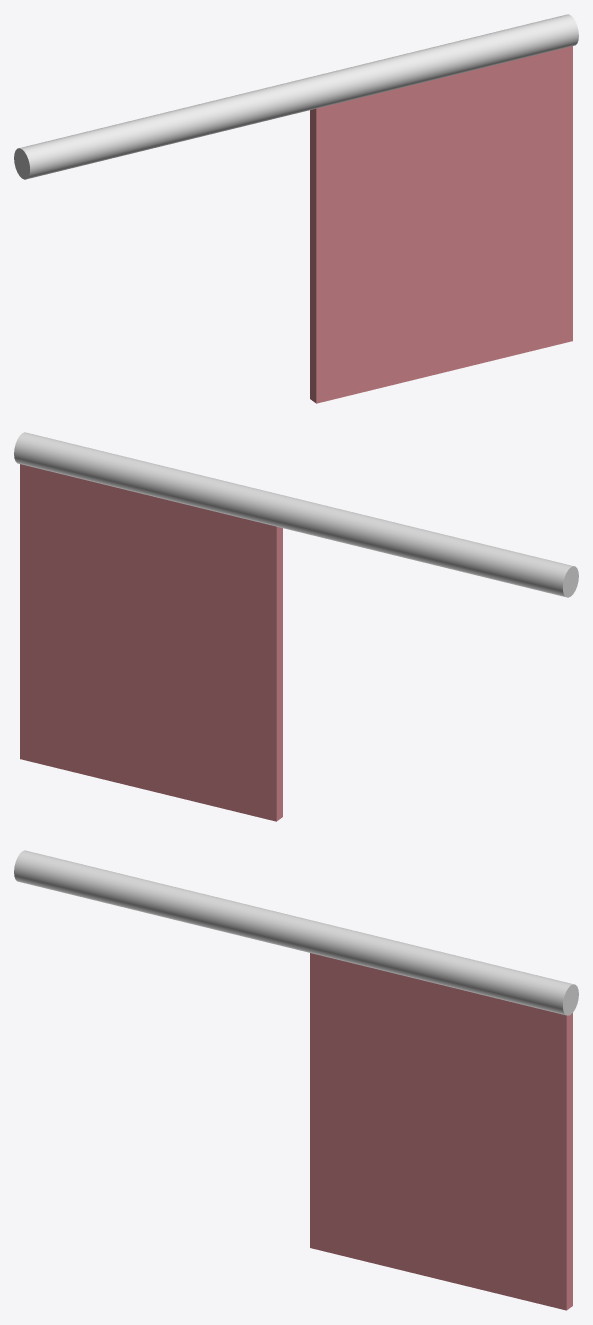
The model's file is FlagRed 1.fbx.
3 views of the same model, one above another, from view 1: azimuth 30°, elevation 25°; view 2: azimuth 150°, elevation 25°; view 3: azimuth 330°, elevation 25° (orthographic).
Visible parts, largest first — view 1: pasted__pCube1; view 2: pasted__pCube1; view 3: pasted__pCube1.
Part boxes in pixels (<box>): pasted__pCube1: <box>14,14,578,403</box>; pasted__pCube1: <box>14,432,578,821</box>; pasted__pCube1: <box>14,850,578,1310</box>.
Size of the model in its own units: 69.33 by 39.01 by 3.54.
